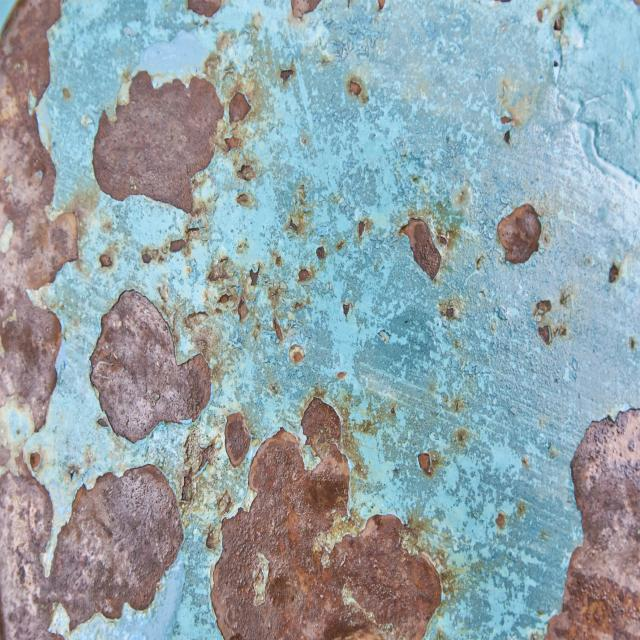Pitting Corrosion: (209, 405, 446, 640), (0, 5, 63, 640), (549, 405, 640, 640), (91, 72, 223, 214), (65, 467, 183, 621), (93, 294, 211, 439), (94, 70, 178, 155)
